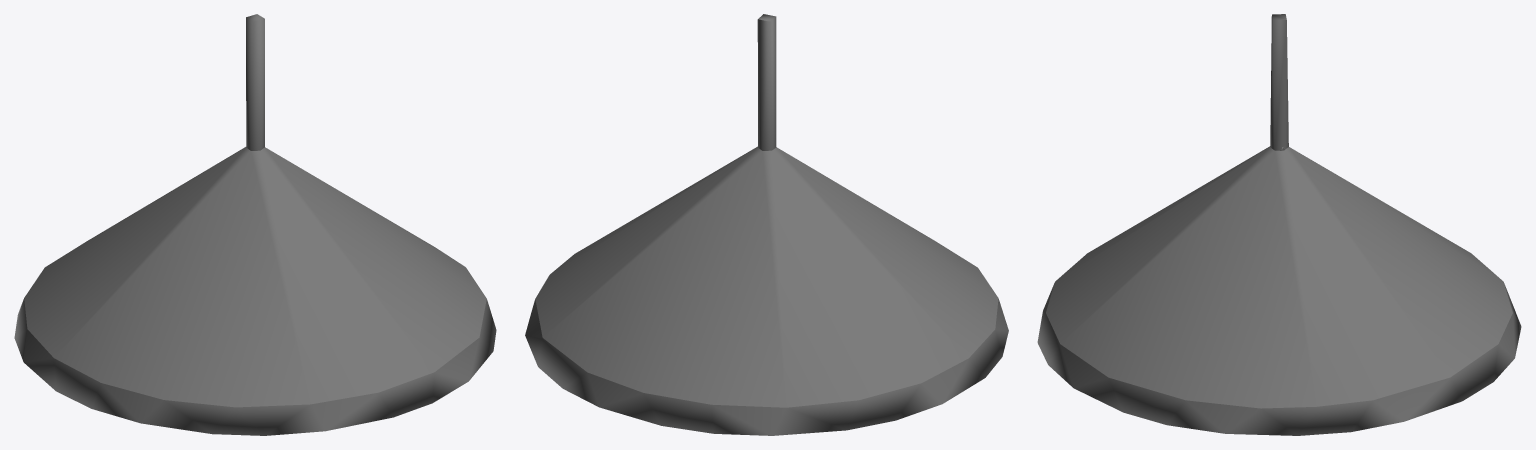
Rendered from ceiling.obj.
3 views of the same model, side by side, from view 1: azimuth 30°, elevation 25°; view 2: azimuth 150°, elevation 25°; view 3: azimuth 270°, elevation 25° (orthographic).
Parts seen in each view (by area): view 1: Body1.002; view 2: Body1.002; view 3: Body1.002.
Boxes of the visible parts, x1,y1,x2,y2 form: Body1.002: [14, 14, 496, 435]; Body1.002: [525, 14, 1008, 435]; Body1.002: [1037, 14, 1521, 435].
Bounding box in the file's own units: 1.53 × 1.11 × 1.54.
Materials: 1 (1 with a texture image).
